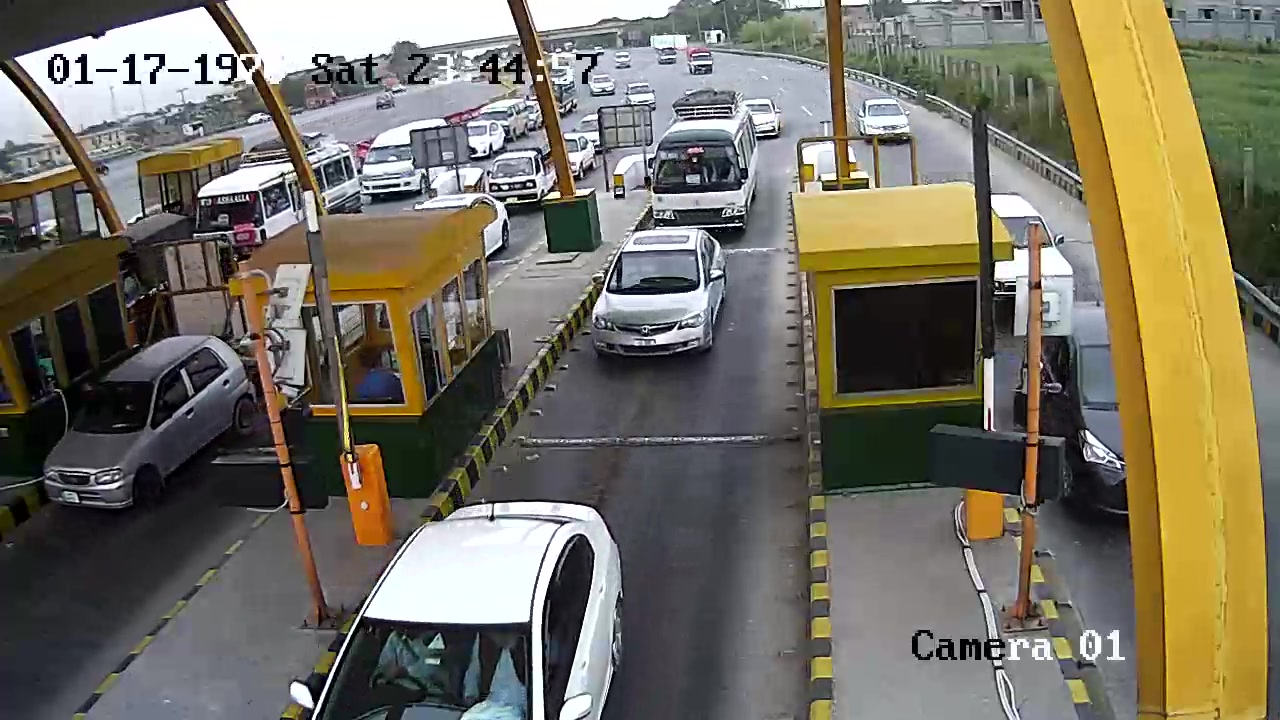F1: (579, 226, 739, 375)
